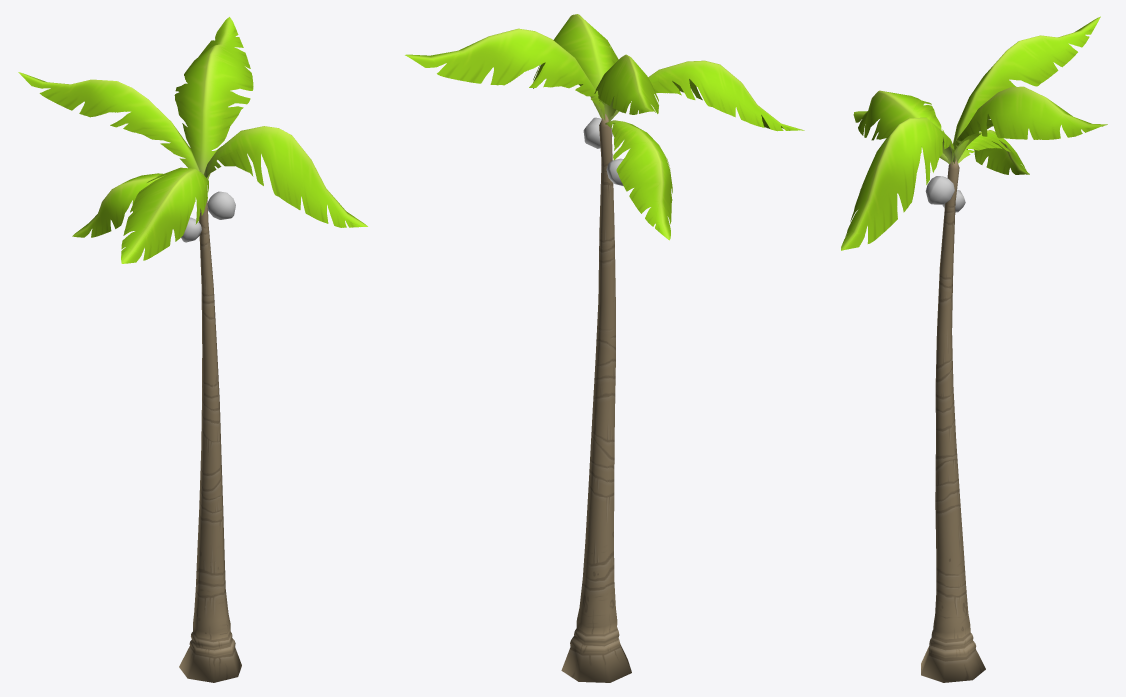
The model's file is palmtree1.fbx.
3 renders of one model, left to right at view 1: azimuth 30°, elevation 25°; view 2: azimuth 150°, elevation 25°; view 3: azimuth 270°, elevation 25°, orthographic. The views are drawn at different scales.
Parts seen in each view (by area): view 1: Trunk.002, Blade.009, Blade.011, Blade.012, Blade.010, Blade.013, Coconut.003; view 2: Trunk.002, Blade.009, Blade.013, Blade.012, Blade.010, Blade.011; view 3: Trunk.002, Blade.011, Blade.009, Blade.010, Blade.012, Blade.013, Coconut.003.
Part boxes in pixels (x1,y1,x2,y2): Trunk.002: (179, 200, 241, 682); Blade.009: (174, 17, 253, 179); Blade.011: (203, 126, 367, 227); Blade.012: (121, 167, 208, 263); Blade.010: (18, 72, 199, 171); Blade.013: (72, 173, 166, 237); Coconut.003: (207, 191, 235, 219); Trunk.002: (561, 114, 631, 682); Blade.009: (405, 28, 605, 120); Blade.013: (605, 120, 672, 240); Blade.012: (608, 60, 804, 131); Blade.010: (594, 54, 658, 120); Blade.011: (533, 14, 618, 118); Trunk.002: (921, 158, 985, 682); Blade.011: (841, 117, 955, 250); Blade.009: (952, 86, 1107, 164); Blade.010: (953, 16, 1100, 162); Blade.012: (853, 90, 949, 164); Blade.013: (958, 130, 1029, 174); Coconut.003: (925, 176, 954, 204).
Size of the model in its own units: 1459 by 3307 by 1364.
